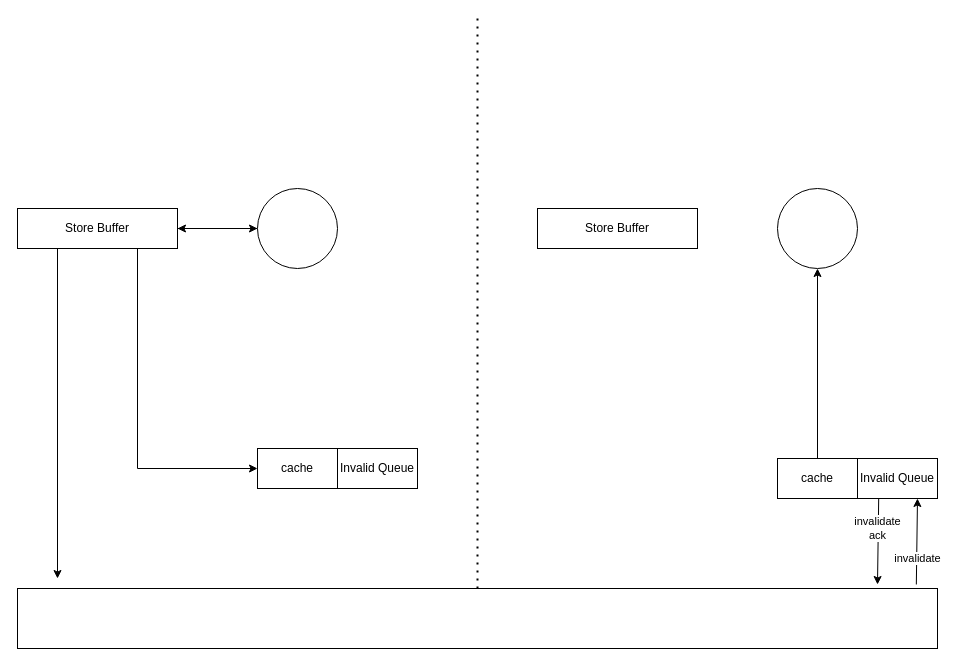
Image size: 958x666. Some labels were removed from this diagram. Each missing label, with the box of its shape:
CPU0: (256, 188, 338, 268)
CPU1: (776, 188, 858, 268)
内存: (16, 588, 938, 648)
